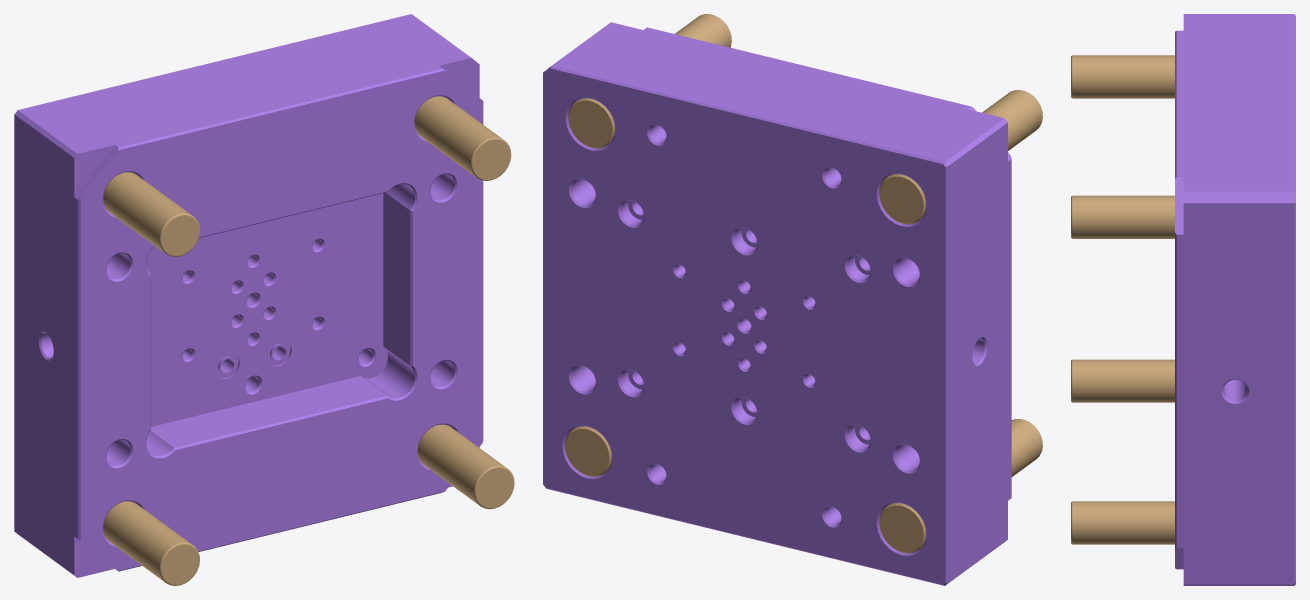
Rendered from b_plate.glb.
3 renders of one model, left to right at view 1: azimuth 30°, elevation 25°; view 2: azimuth 150°, elevation 25°; view 3: azimuth 270°, elevation 25°, orthographic. The views are drawn at different scales.
Parts seen in each view (by area): view 1: cardcase_b_plate_061, cardcase_gpa_051 (×4); view 2: cardcase_b_plate_061, cardcase_gpa_051 (×4); view 3: cardcase_b_plate_061, cardcase_gpa_051 (×4).
Part boxes in pixels (<box>): cardcase_b_plate_061: <box>14,14,483,577</box>; cardcase_gpa_051 (×4): <box>103,96,514,585</box>; cardcase_b_plate_061: <box>543,22,1011,585</box>; cardcase_gpa_051 (×4): <box>565,14,1042,553</box>; cardcase_b_plate_061: <box>1175,14,1295,585</box>; cardcase_gpa_051 (×4): <box>1071,55,1174,544</box>.
Size of the model in its own units: 0.25 by 0.25 by 0.13.
